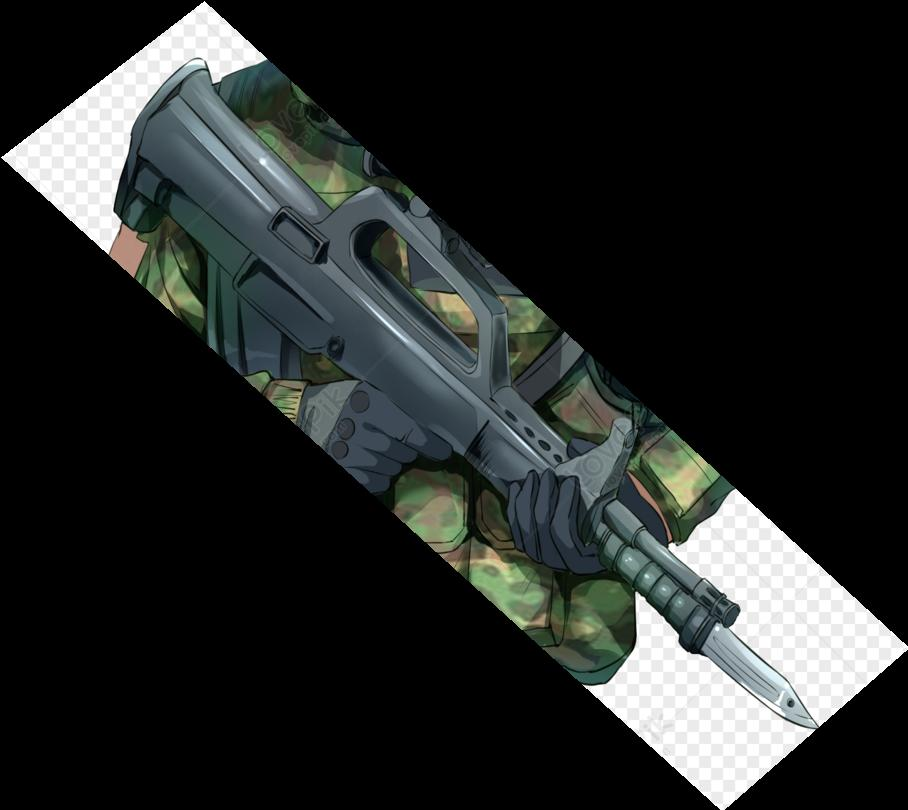gun: (1, 1, 908, 810)
